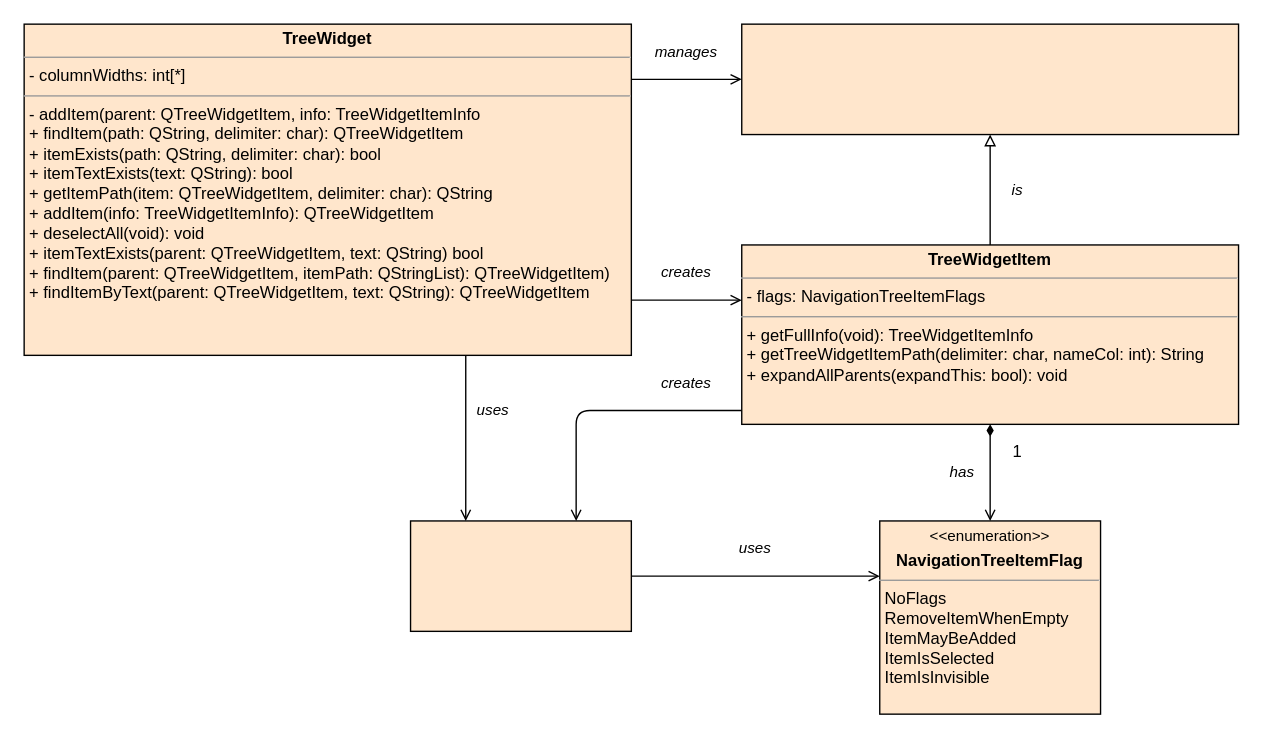
Image size: 1263x738. Some labels were removed from this diagram. Here are the shapes that lost their labels. From the top down, the centre of each, then its label:
At (x=989, y=79): "QTreeWidgetItem".
At (x=520, y=575): "TreeWidgetItemInfo".
